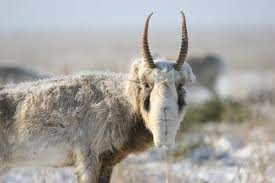saiga: (1, 10, 196, 183)
